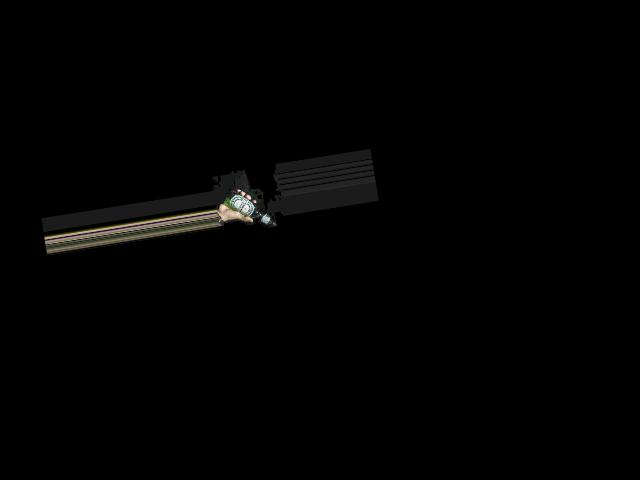beer: (219, 183, 278, 235)
